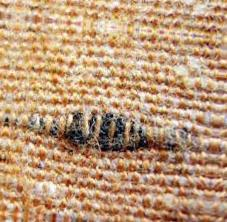slub: (1, 108, 201, 157)
